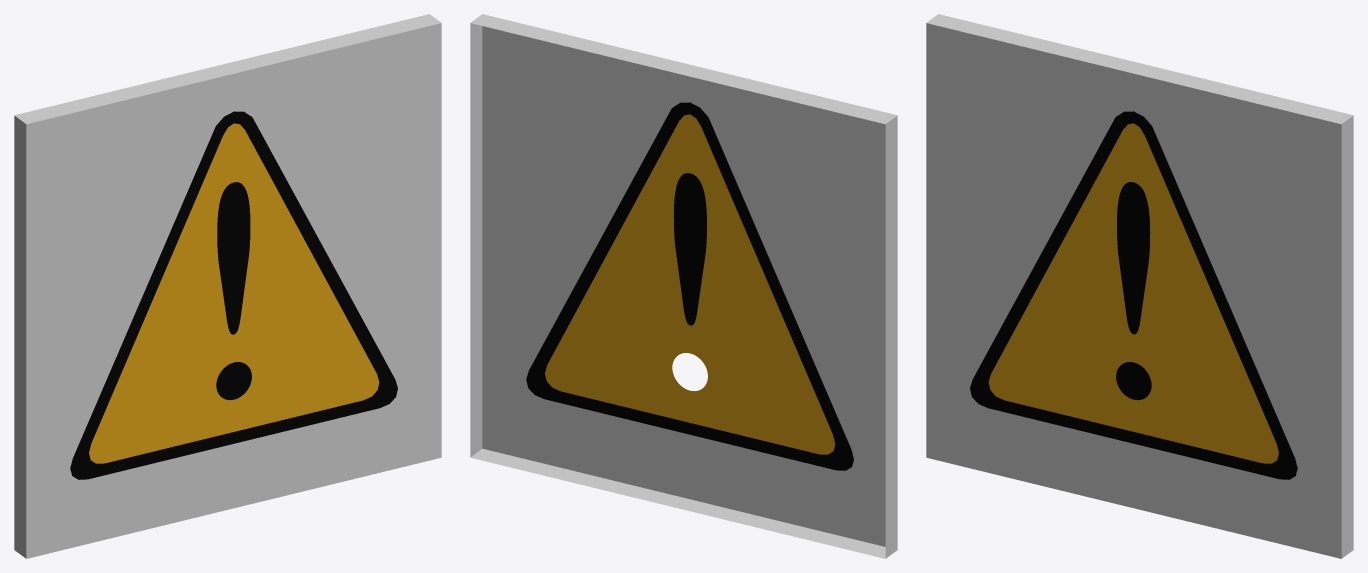
File: Sign_Exclamation.fbx
3 views of the same model, side by side, from view 1: azimuth 30°, elevation 25°; view 2: azimuth 150°, elevation 25°; view 3: azimuth 330°, elevation 25° (orthographic).
Parts seen in each view (by area): view 1: Sign_Exclamation; view 2: Sign_Exclamation; view 3: Sign_Exclamation.
Part boxes in pixels (x1,y1,x2,y2): Sign_Exclamation: [14, 14, 441, 558]; Sign_Exclamation: [470, 14, 897, 558]; Sign_Exclamation: [926, 14, 1353, 558].
Bounding box in the file's own units: 67.5 × 67.5 × 3.46.
